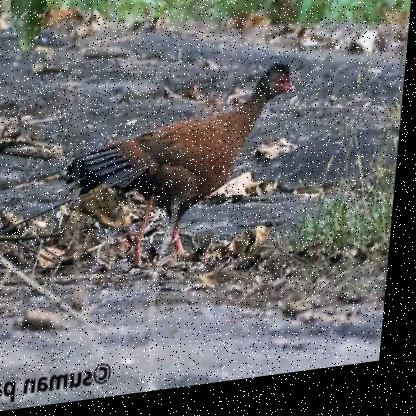Burung: (63, 66, 301, 299)
